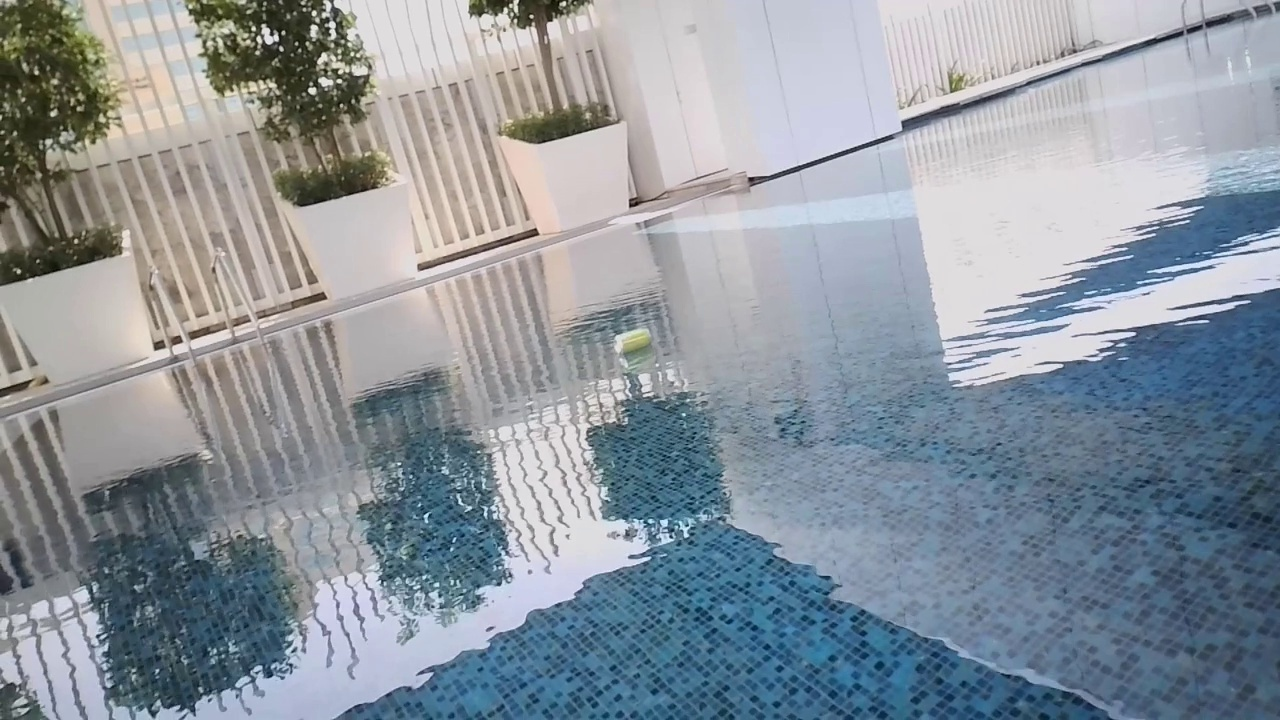debris: (608, 319, 658, 359)
